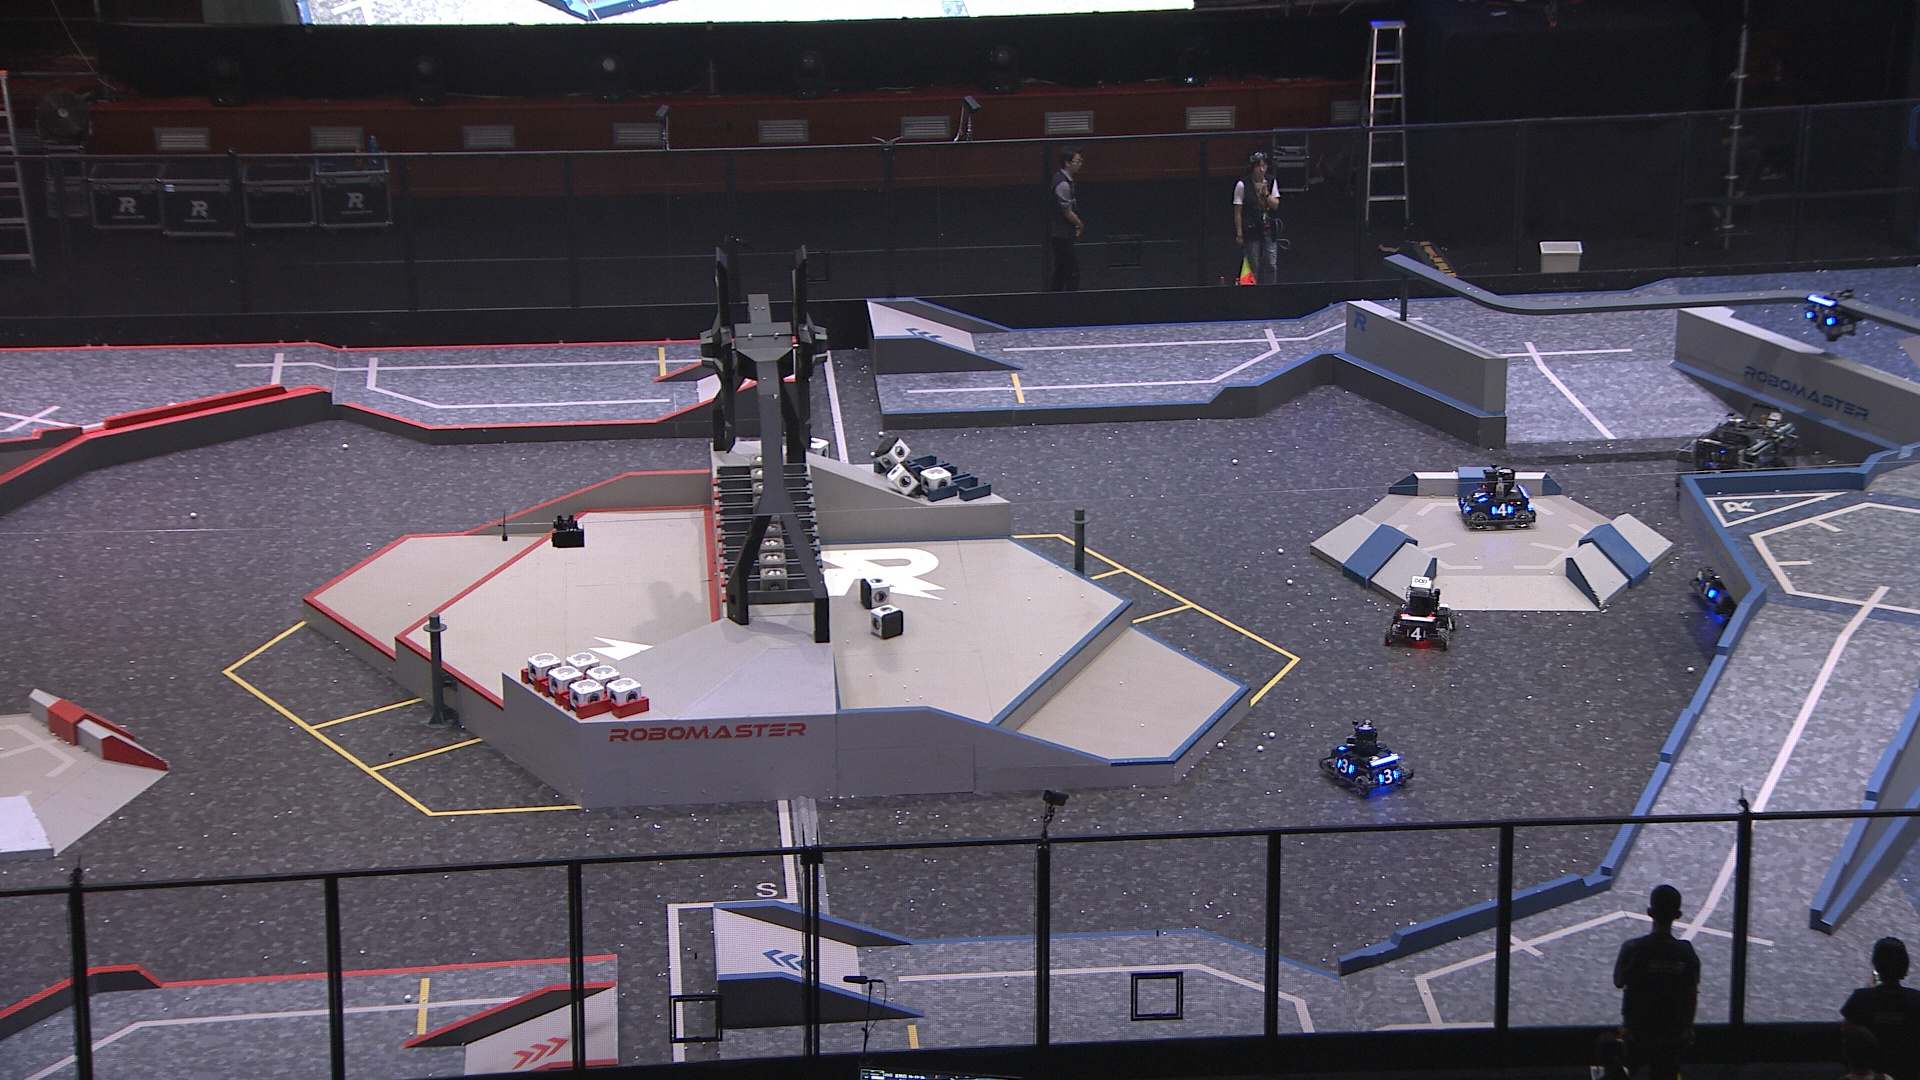armor: (1807, 309, 1832, 330), (1700, 579, 1720, 605), (1377, 766, 1399, 785), (1456, 495, 1474, 516), (1335, 757, 1354, 775), (1406, 628, 1428, 642), (1490, 502, 1510, 517), (1472, 487, 1486, 505), (1444, 615, 1455, 632)
car: (1673, 404, 1803, 520), (1689, 537, 1778, 621), (1316, 719, 1414, 793), (1455, 463, 1539, 535), (1381, 574, 1460, 647)
watcher: (1803, 285, 1866, 342)
